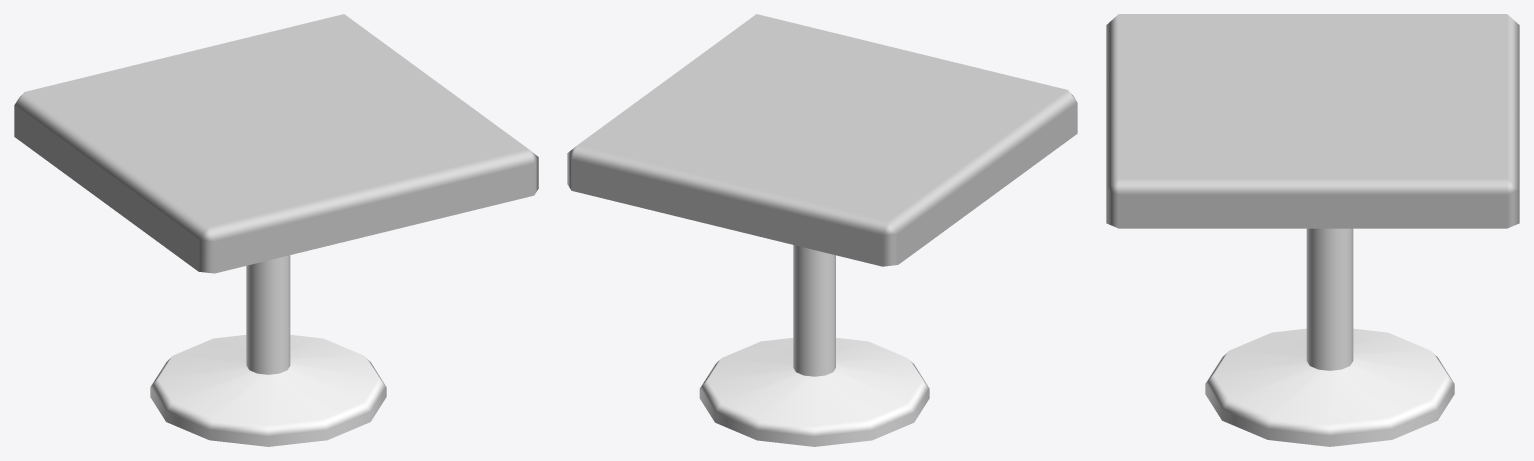
The model's file is Cafe_Table.fbx.
3 renders of one model, left to right at view 1: azimuth 30°, elevation 25°; view 2: azimuth 150°, elevation 25°; view 3: azimuth 270°, elevation 25°, orthographic. The views are drawn at different scales.
Parts seen in each view (by area): view 1: Cafe_Table_Top, Cafe_Table; view 2: Cafe_Table_Top, Cafe_Table; view 3: Cafe_Table_Top, Cafe_Table.
Boxes of the visible parts, left/top/right/bottom form: Cafe_Table_Top: left=14, top=14, right=538, bottom=273; Cafe_Table: left=150, top=255, right=386, bottom=446; Cafe_Table_Top: left=567, top=14, right=1077, bottom=266; Cafe_Table: left=699, top=245, right=929, bottom=446; Cafe_Table_Top: left=1106, top=14, right=1519, bottom=228; Cafe_Table: left=1205, top=228, right=1454, bottom=446.
Bounding box in the file's own units: 100 × 79.76 × 100.
